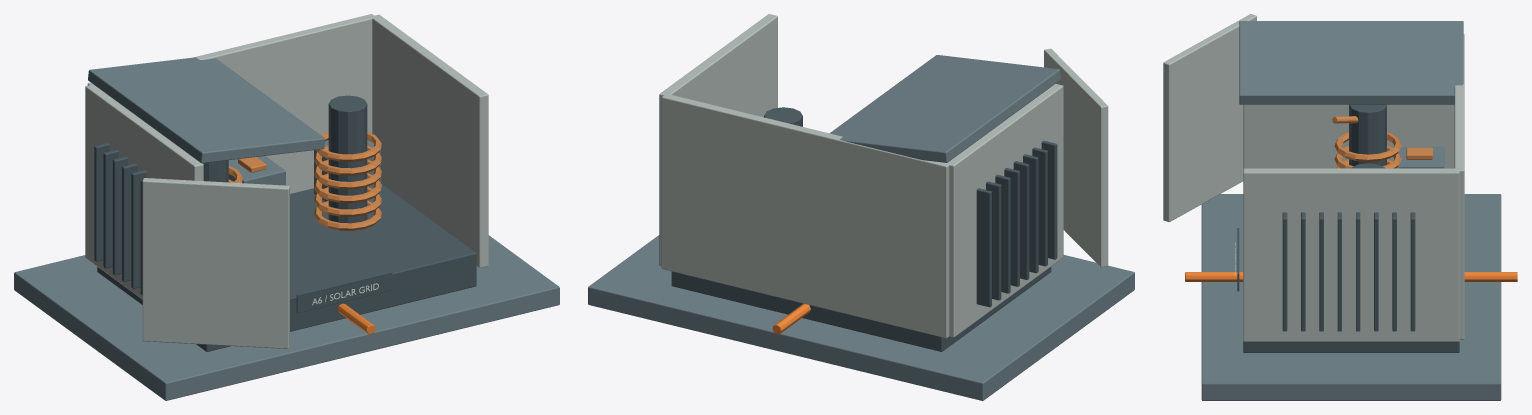
Rendered from solar_power_station_d2.glb.
3 views of the same model, side by side, from view 1: azimuth 30°, elevation 25°; view 2: azimuth 150°, elevation 25°; view 3: azimuth 270°, elevation 25° (orthographic).
Visible parts, largest first — view 1: POWER_STATION_FOUNDATION, HINGED_TORN_DOOR, INVERTER_ARMORED_SIDE_001, INVERTER_CHASSIS, SHEARED_ROOF_REMNANT, INVERTER_REAR_ARMOR, INVERTER_ARMORED_SIDE, TRANSFORMER_CORE_001, STATION_IDENTITY_PLATE, COOLING_FIN_005, COOLING_FIN_006, COOLING_FIN_004 (+10 smaller); view 2: INVERTER_REAR_ARMOR, POWER_STATION_FOUNDATION, SHEARED_ROOF_REMNANT, INVERTER_ARMORED_SIDE, HINGED_TORN_DOOR, INVERTER_ARMORED_SIDE_001, INVERTER_CHASSIS, COOLING_FIN_007, COOLING_FIN, COOLING_FIN_003, COOLING_FIN_001, COOLING_FIN_006 (+4 smaller); view 3: INVERTER_ARMORED_SIDE_001, POWER_STATION_FOUNDATION, SHEARED_ROOF_REMNANT, HINGED_TORN_DOOR, INVERTER_ARMORED_SIDE, INVERTER_CHASSIS, INVERTER_REAR_ARMOR, TRANSFORMER_CORE, EXPOSED_TRANSFORMER_WINDING_005, BATTERY_MODULE, COOLING_FIN_008, COOLING_FIN_015 (+10 smaller).
Boxes of the visible parts, <box> form: POWER_STATION_FOUNDATION: <box>14,235,559,400</box>; HINGED_TORN_DOOR: <box>142,178,289,348</box>; INVERTER_ARMORED_SIDE_001: <box>371,14,488,268</box>; INVERTER_CHASSIS: <box>97,183,476,351</box>; SHEARED_ROOF_REMNANT: <box>88,57,325,163</box>; INVERTER_REAR_ARMOR: <box>87,14,374,193</box>; INVERTER_ARMORED_SIDE: <box>85,85,203,299</box>; TRANSFORMER_CORE_001: <box>328,95,367,230</box>; STATION_IDENTITY_PLATE: <box>296,271,392,313</box>; COOLING_FIN_005: <box>112,156,128,275</box>; COOLING_FIN_006: <box>103,149,118,268</box>; COOLING_FIN_004: <box>122,163,137,281</box>; INVERTER_REAR_ARMOR: <box>661,94,949,338</box>; POWER_STATION_FOUNDATION: <box>588,235,1134,400</box>; SHEARED_ROOF_REMNANT: <box>830,55,1060,162</box>; INVERTER_ARMORED_SIDE: <box>947,84,1063,337</box>; HINGED_TORN_DOOR: <box>1044,48,1108,267</box>; INVERTER_ARMORED_SIDE_001: <box>659,14,777,266</box>; INVERTER_CHASSIS: <box>671,267,1051,351</box>; COOLING_FIN_007: <box>976,188,991,307</box>; COOLING_FIN: <box>1041,140,1057,259</box>; COOLING_FIN_003: <box>1013,161,1029,279</box>; COOLING_FIN_001: <box>1032,147,1047,266</box>; COOLING_FIN_006: <box>986,181,1001,300</box>; INVERTER_ARMORED_SIDE_001: <box>1243,168,1459,341</box>; POWER_STATION_FOUNDATION: <box>1201,194,1501,400</box>; SHEARED_ROOF_REMNANT: <box>1239,21,1463,104</box>; HINGED_TORN_DOOR: <box>1163,14,1256,221</box>; INVERTER_ARMORED_SIDE: <box>1243,104,1454,168</box>; INVERTER_CHASSIS: <box>1243,341,1459,352</box>; INVERTER_REAR_ARMOR: <box>1454,34,1464,339</box>; TRANSFORMER_CORE: <box>1349,104,1386,166</box>; EXPOSED_TRANSFORMER_WINDING_005: <box>1334,132,1401,161</box>; BATTERY_MODULE: <box>1397,146,1444,168</box>; COOLING_FIN_008: <box>1282,212,1287,331</box>; COOLING_FIN_015: <box>1410,212,1415,331</box>.
Size of the model in its own units: 5.4 by 2.89 by 4.26.
